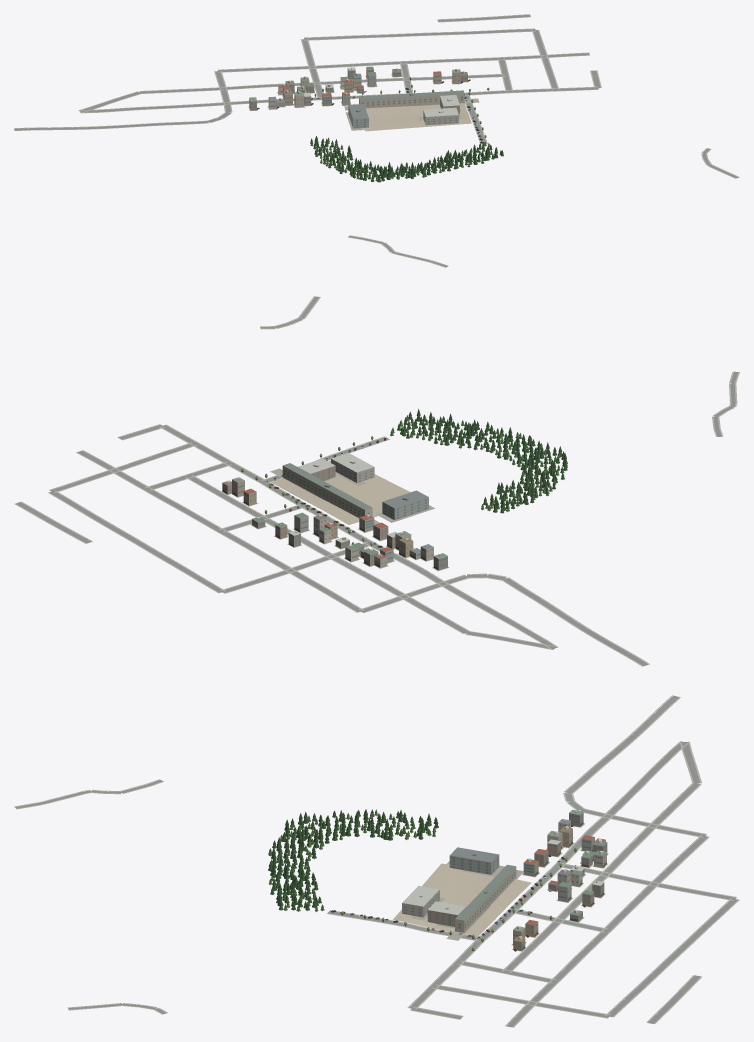
3 views of the same model, one above another, from view 1: azimuth 30°, elevation 25°; view 2: azimuth 150°, elevation 25°; view 3: azimuth 270°, elevation 25° (orthographic). The views are drawn at different scales.
Visible parts, largest first — view 1: context-osm-roads, context-osm-sidewalks, context-forest, context-villa-infill, context-osm-buildings, context-building-plinths; view 2: context-osm-roads, context-osm-sidewalks, context-forest, context-villa-infill, context-osm-buildings, context-building-plinths; view 3: context-osm-roads, context-osm-sidewalks, context-forest, context-villa-infill, context-osm-buildings, context-building-plinths.
Part boxes in pixels (left/top/right/bottom): context-osm-roads: left=14, top=14, right=738, bottom=267; context-osm-sidewalks: left=14, top=14, right=739, bottom=267; context-forest: left=310, top=136, right=503, bottom=182; context-villa-infill: left=248, top=66, right=489, bottom=143; context-osm-buildings: left=348, top=90, right=464, bottom=128; context-building-plinths: left=344, top=98, right=479, bottom=131; context-osm-roads: left=15, top=296, right=738, bottom=666; context-osm-sidewalks: left=14, top=296, right=739, bottom=666; context-forest: left=390, top=409, right=567, bottom=513; context-villa-infill: left=222, top=436, right=449, bottom=570; context-osm-buildings: left=282, top=453, right=428, bottom=520; context-building-plinths: left=270, top=460, right=435, bottom=524; context-osm-roads: left=15, top=695, right=737, bottom=1027; context-osm-sidewalks: left=14, top=695, right=739, bottom=1027; context-forest: left=268, top=809, right=438, bottom=911; context-villa-infill: left=331, top=809, right=608, bottom=951; context-osm-buildings: left=402, top=847, right=516, bottom=932; context-building-plinths: left=393, top=861, right=531, bottom=940.
Size of the model in its own units: 708 by 22.22 by 660.
